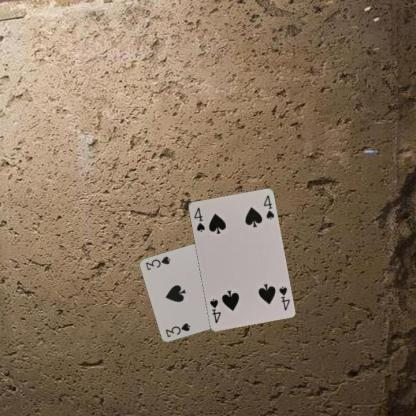3s: (163, 320, 191, 338)
4s: (191, 204, 206, 233), (276, 283, 291, 312)
